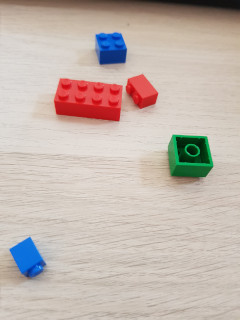1x1 blue: (10, 237, 48, 277)
1x2 red: (125, 71, 160, 111)
2x2 blue: (94, 33, 128, 64)
2x2 green: (167, 135, 214, 180)
2x4 red: (55, 77, 126, 123)
